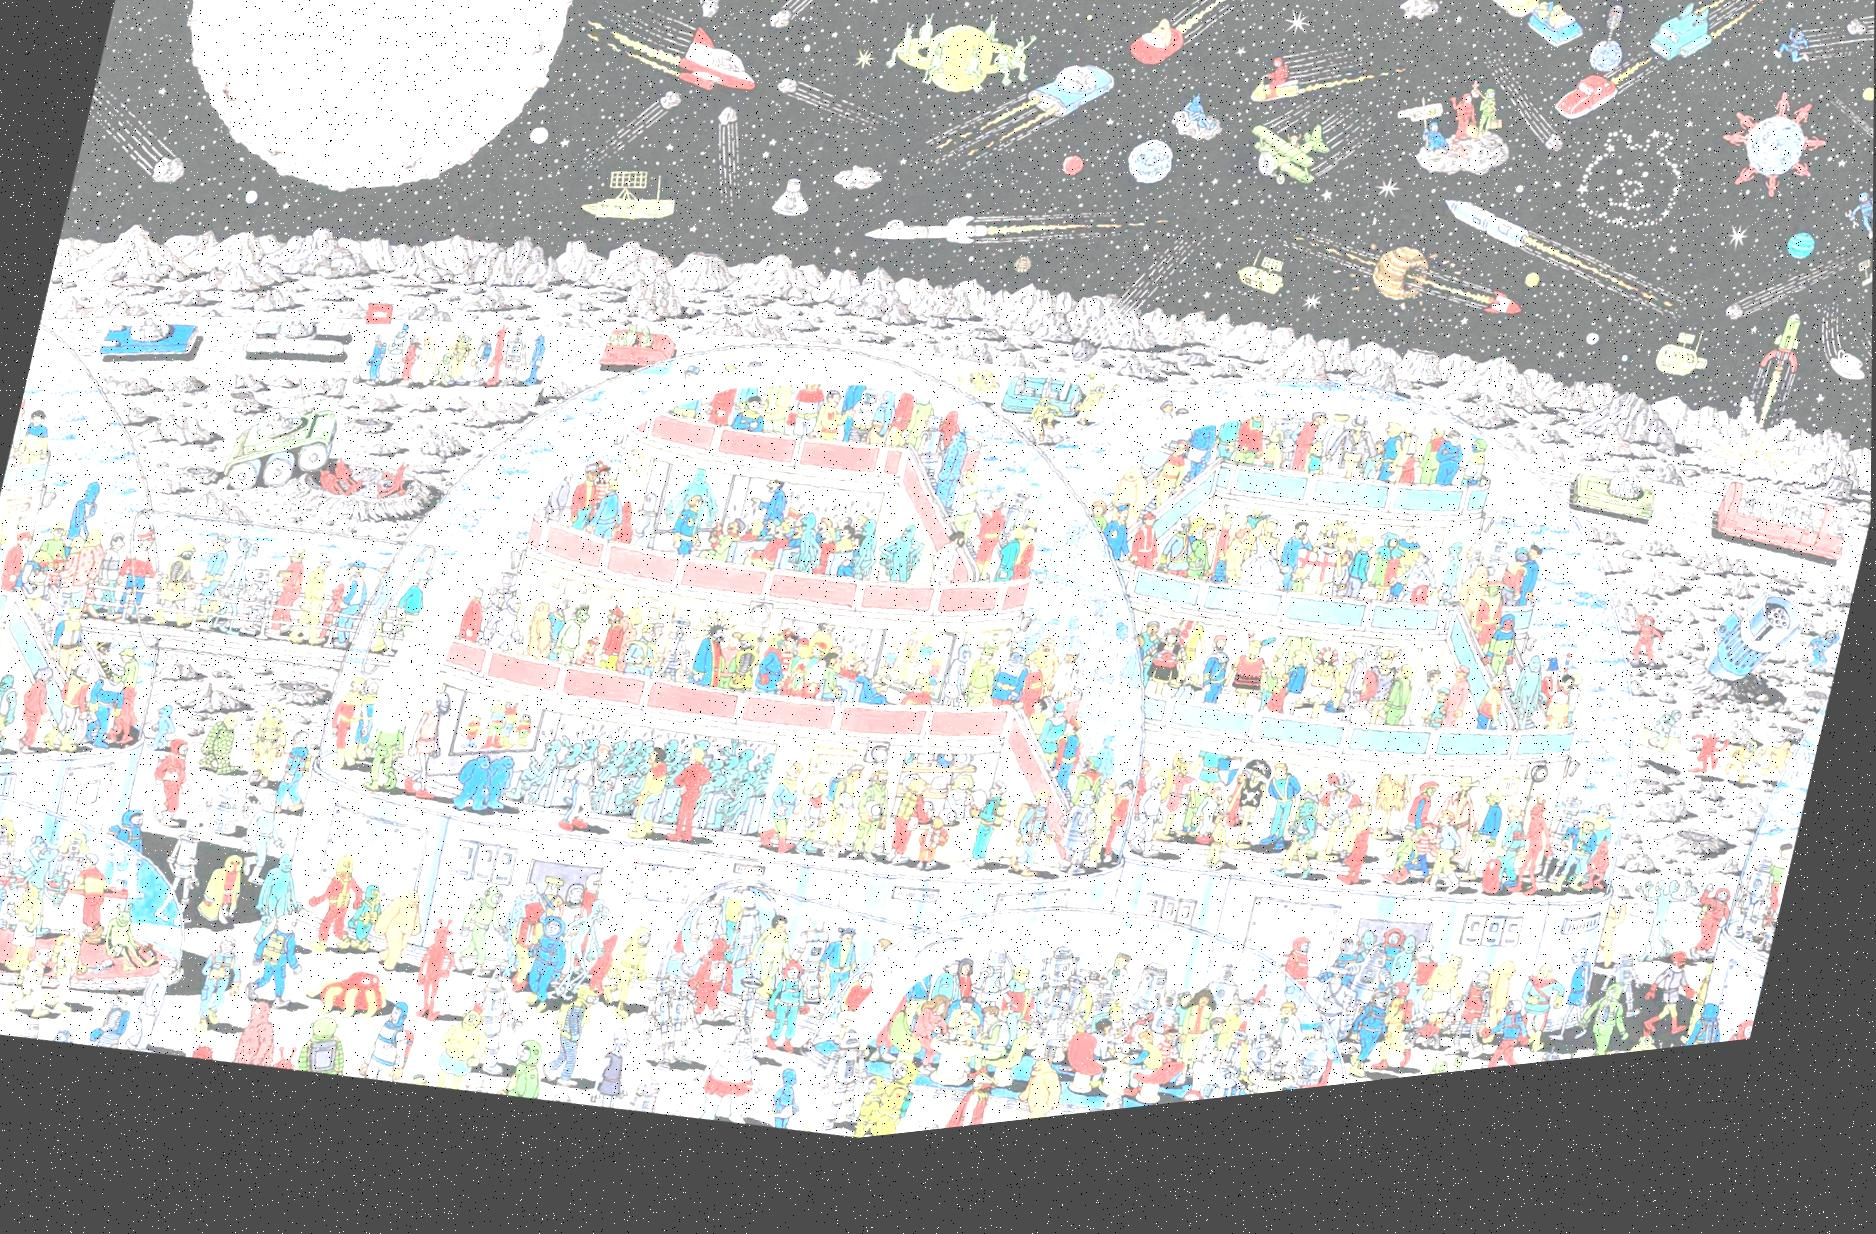waldo: (777, 646, 802, 672)
